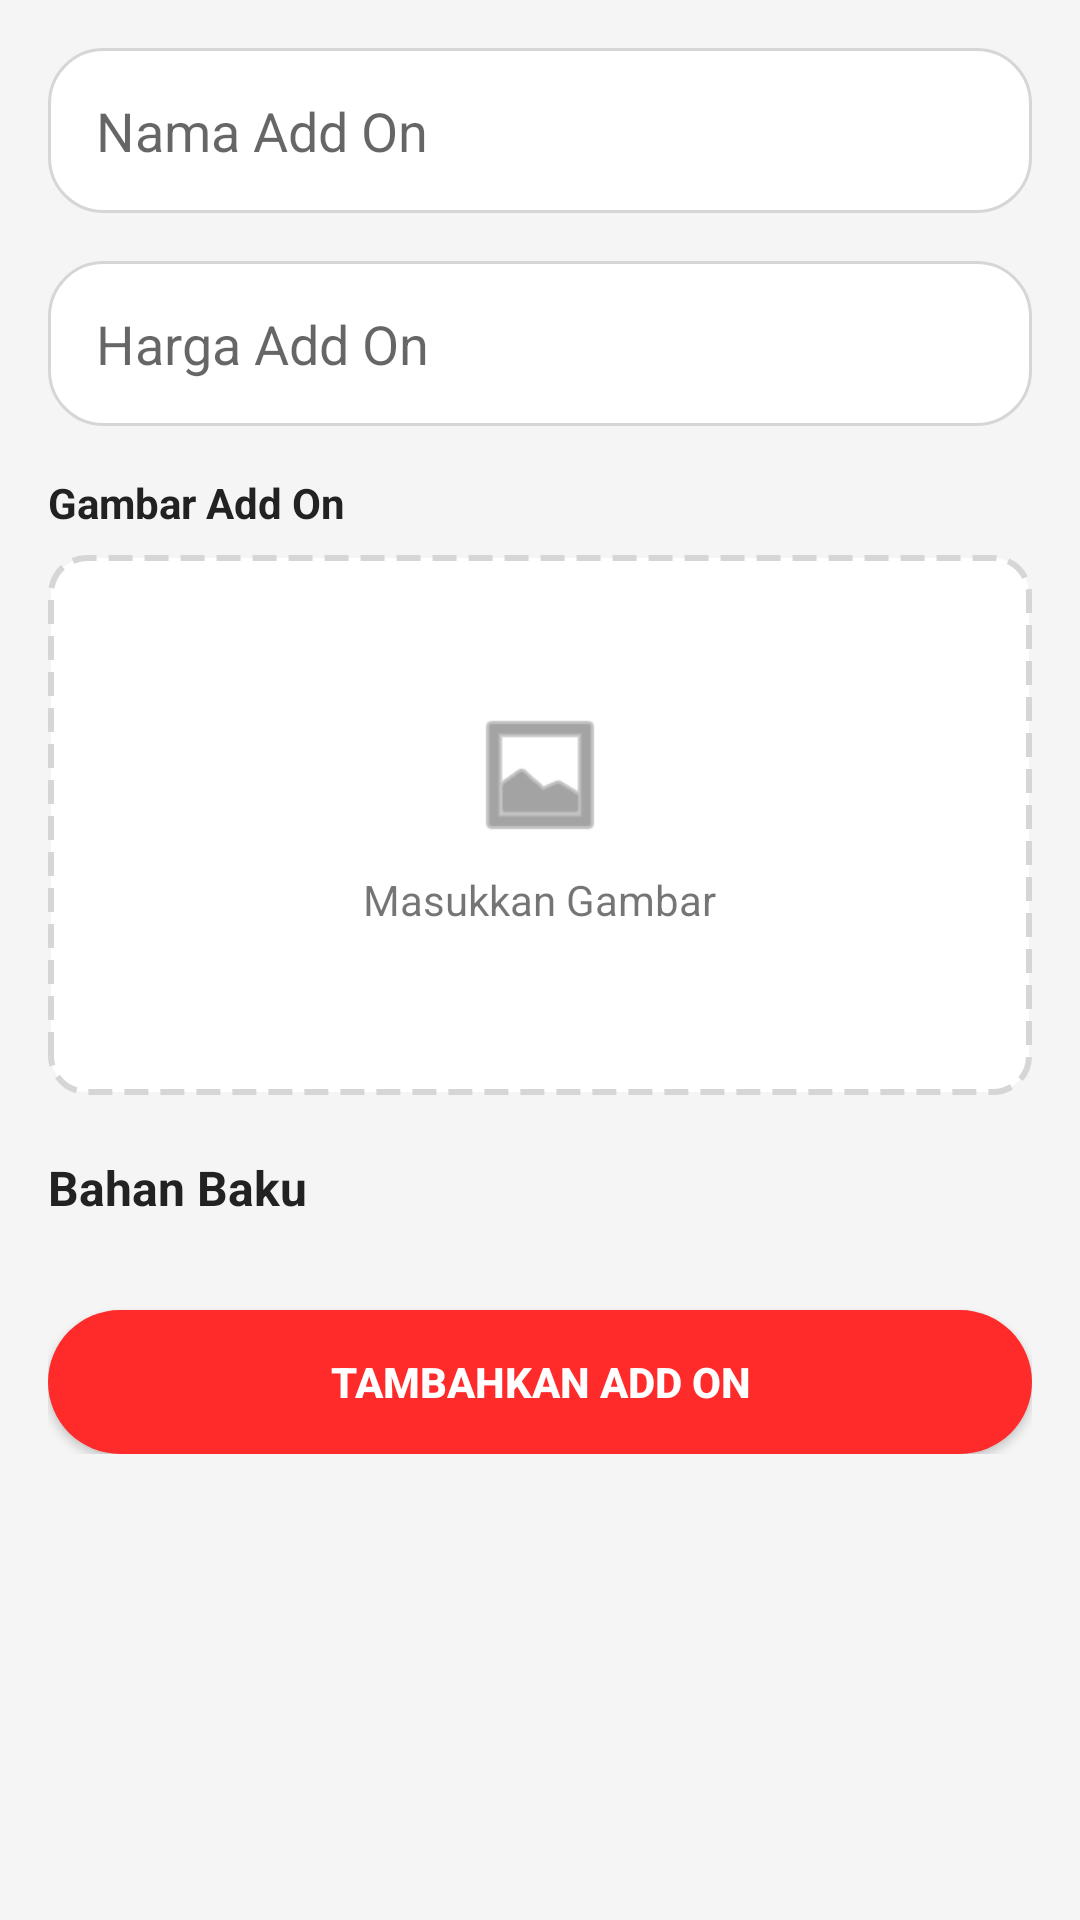

Screen size 1080*1920. Icon name, then its center in pixels as (x=x, y=y):
gallery: (x=540, y=775)
